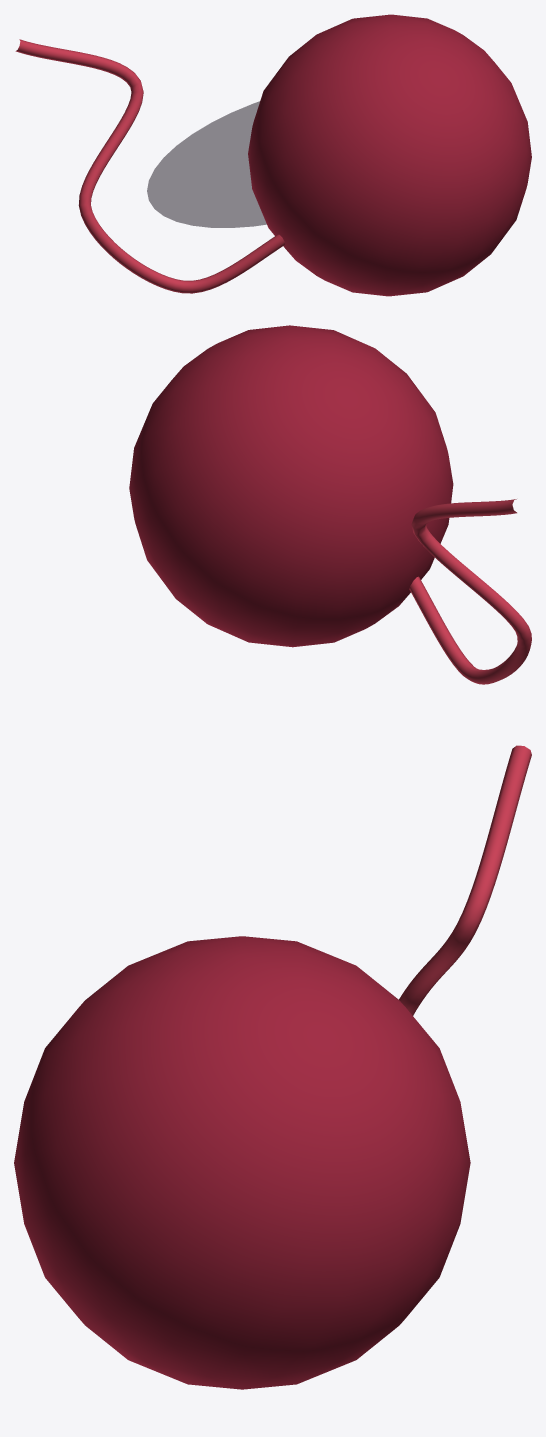
Rendered from aic-14655-v1.glb.
3 renders of one model, top to bottom at view 1: azimuth 30°, elevation 25°; view 2: azimuth 150°, elevation 25°; view 3: azimuth 270°, elevation 25°, orthographic. The views are drawn at different scales.
Parts seen in each view (by area): view 1: YarnCore, YarnShadow, LooseYarnTail; view 2: YarnCore, LooseYarnTail; view 3: YarnCore, LooseYarnTail.
Boxes of the visible parts, box(x1,y1,x2,y2) form: YarnCore: box(248, 14, 531, 296); YarnShadow: box(147, 101, 266, 227); LooseYarnTail: box(15, 39, 284, 293); YarnCore: box(129, 325, 453, 647); LooseYarnTail: box(409, 499, 531, 684); YarnCore: box(14, 936, 470, 1389); LooseYarnTail: box(399, 745, 531, 1015).
Size of the model in its own units: 1.12 by 0.62 by 0.7033.
